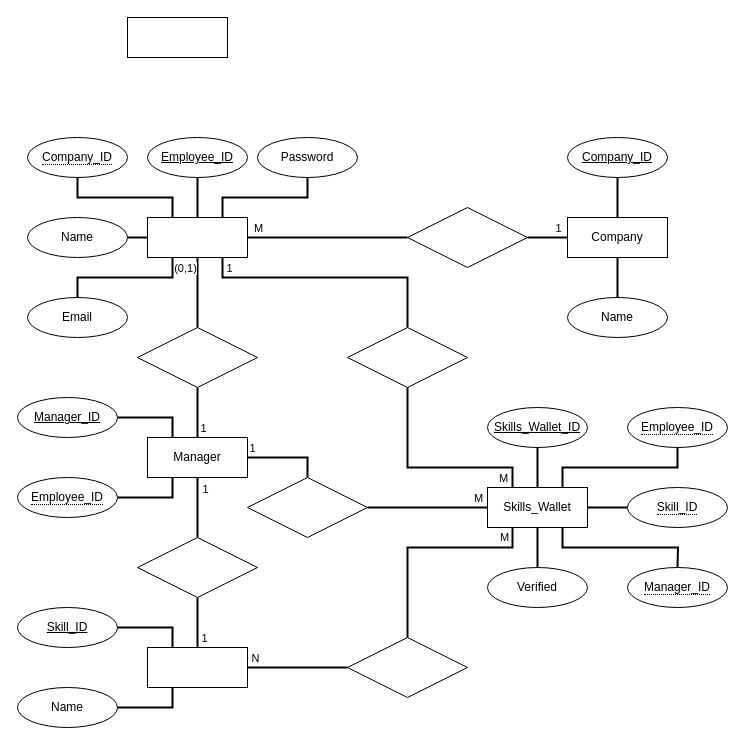
Some shapes in this 745 by 745 pixel diagram are drawn without their labels. Here are the shapes that lost their labels. From the top down, the centre of each, then its label:
At pixel 177 37: "Entity".
At pixel 197 237: "Employee".
At pixel 467 237: "Works For".
At pixel 197 357: "Is".
At pixel 407 357: "Has Skill".
At pixel 307 507: "Verifies".
At pixel 197 567: "Adds".
At pixel 197 667: "Skill".
At pixel 407 667: "Contains".
